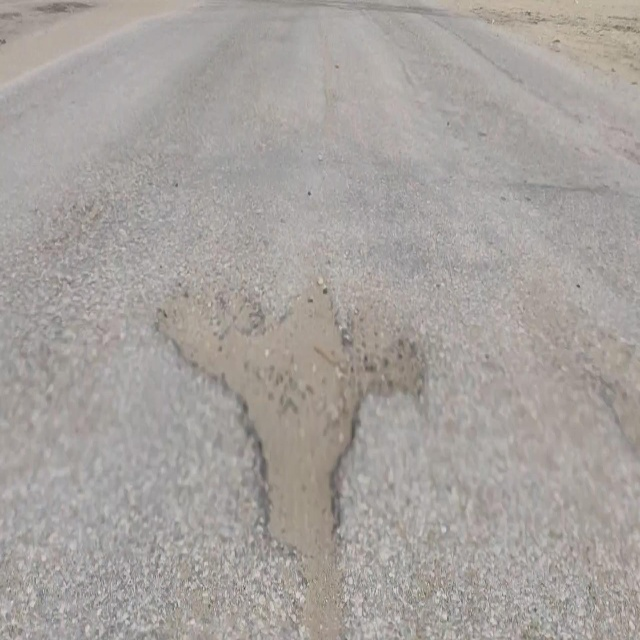pothole: (154, 276, 426, 569)
